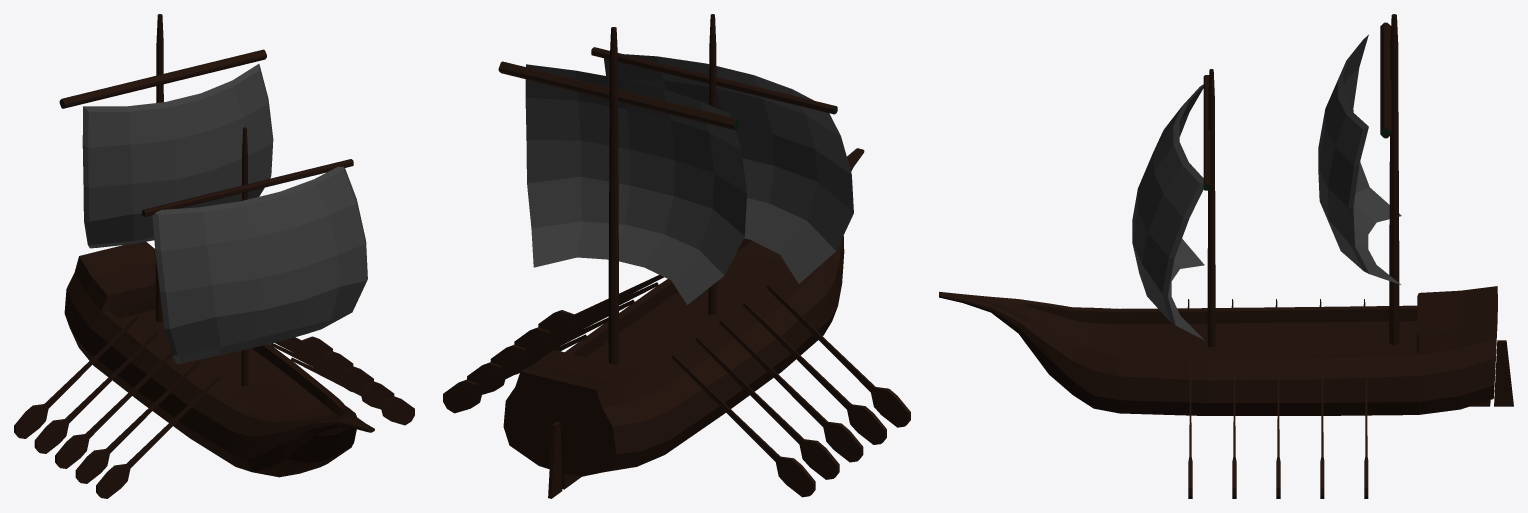
File: Ship_Med_FBX.fbx
3 views of the same model, side by side, from view 1: azimuth 30°, elevation 25°; view 2: azimuth 150°, elevation 25°; view 3: azimuth 270°, elevation 25° (orthographic). The views are drawn at different scales.
Visible parts, largest first — view 1: Box137, Box134, Box139, Box140, Box138, Box144, Box141, Box142, Box145, Box143, Box146, Box147 (+4 smaller); view 2: Box134, Box139, Box137, Cylinder026, Box140, Box138, Box143, Box142, Box144, Box145, Box141, Box150 (+6 smaller); view 3: Box134, Box137, Box139, Cylinder026, Cylinder025, Box140, Box135, Box138.
Part boxes in pixels (left/top/right/bottom): Box137: left=152, top=166, right=367, bottom=364; Box134: left=64, top=241, right=374, bottom=477; Box139: left=82, top=64, right=273, bottom=248; Box140: left=59, top=49, right=266, bottom=108; Box138: left=142, top=159, right=353, bottom=216; Box144: left=34, top=331, right=158, bottom=453; Box141: left=96, top=376, right=219, bottom=498; Box142: left=75, top=361, right=199, bottom=483; Box145: left=14, top=316, right=138, bottom=438; Box143: left=55, top=352, right=171, bottom=468; Box146: left=291, top=357, right=414, bottom=425; Box147: left=270, top=343, right=394, bottom=409; Box134: left=503, top=148, right=864, bottom=476; Box139: left=525, top=64, right=746, bottom=304; Box137: left=604, top=54, right=853, bottom=283; Cylinder026: left=608, top=27, right=618, bottom=365; Box140: left=498, top=61, right=739, bottom=130; Box138: left=591, top=47, right=837, bottom=114; Box143: left=719, top=320, right=863, bottom=462; Box142: left=743, top=302, right=886, bottom=444; Box144: left=695, top=337, right=839, bottom=479; Box145: left=671, top=355, right=815, bottom=497; Box141: left=766, top=285, right=910, bottom=427; Box150: left=443, top=334, right=587, bottom=413; Box134: left=939, top=286, right=1497, bottom=415; Box137: left=1132, top=84, right=1204, bottom=340; Box139: left=1318, top=34, right=1401, bottom=284; Cylinder026: left=1389, top=14, right=1399, bottom=344; Cylinder025: left=1207, top=69, right=1215, bottom=347; Box140: left=1380, top=22, right=1391, bottom=138; Box135: left=1494, top=340, right=1513, bottom=406; Box138: left=1203, top=75, right=1210, bottom=190.
Size of the model in its own units: 2649 by 3001 by 3860.
